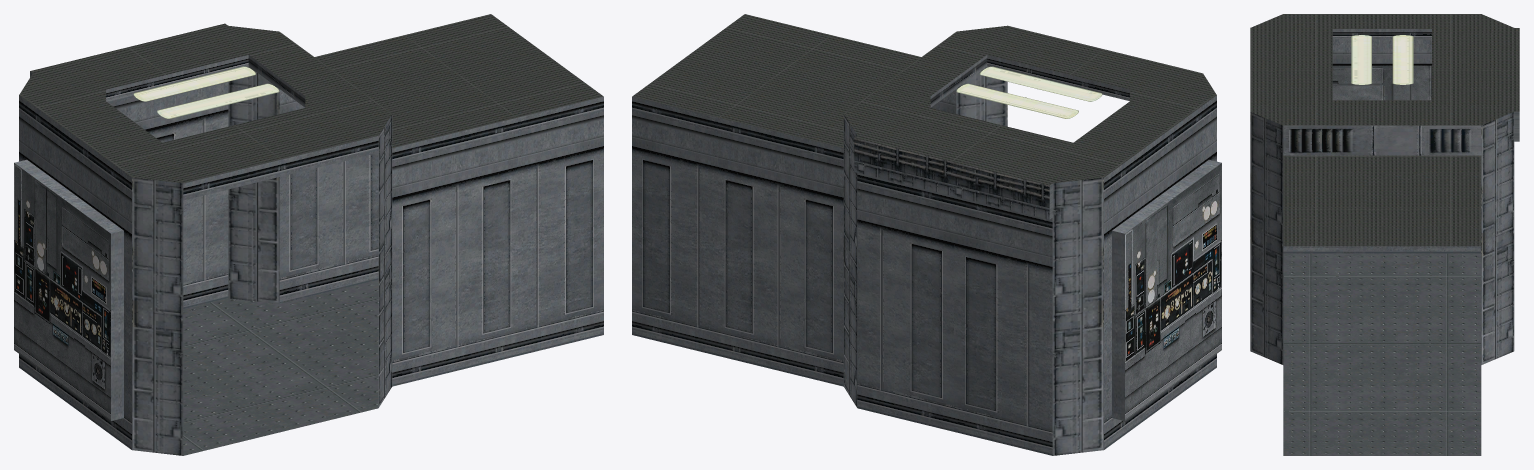
File: poi_all_impl_bunker_s03_r3_hall2_mesh_r3.fbx
3 renders of one model, left to right at view 1: azimuth 30°, elevation 25°; view 2: azimuth 150°, elevation 25°; view 3: azimuth 270°, elevation 25°, orthographic. The views are drawn at different scales.
Visible parts, largest first — view 1: mesh_node; view 2: mesh_node; view 3: mesh_node.
Boxes of the visible parts, left/top/right/bottom form: mesh_node: left=14, top=14, right=603, bottom=455; mesh_node: left=632, top=14, right=1221, bottom=455; mesh_node: left=1250, top=14, right=1519, bottom=455.
Size of the model in its own units: 7.45 by 4.17 by 4.08.
